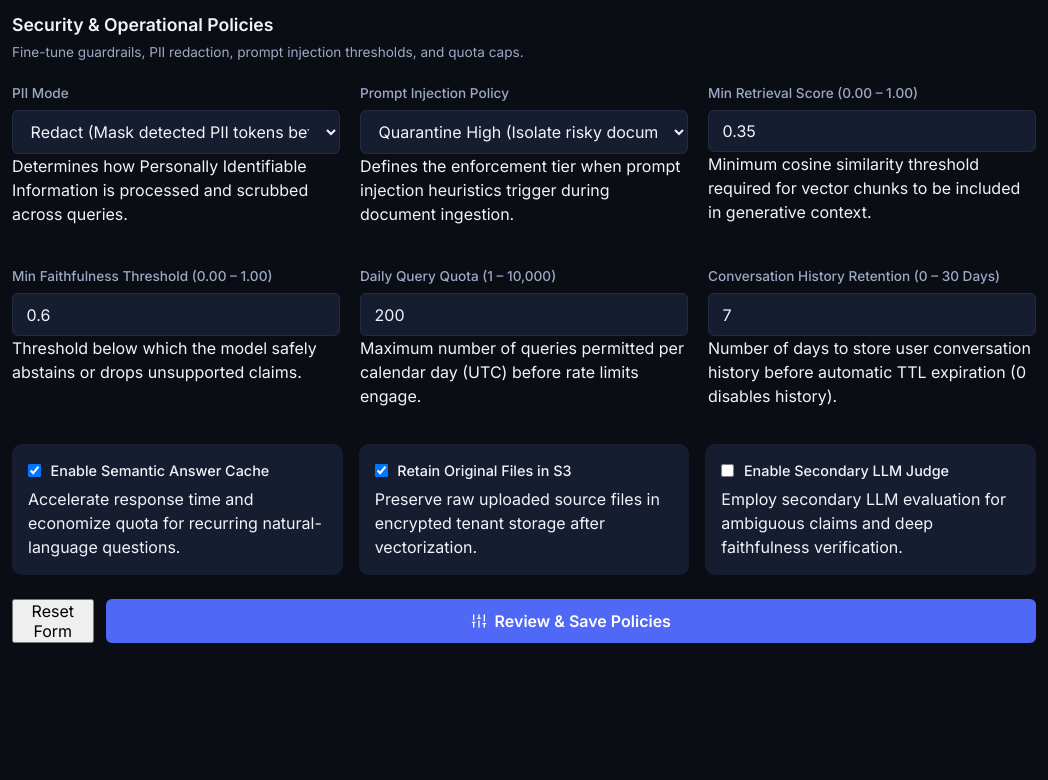
Test: PoliciesTab Component › validates out-of-range inputs before showing confirmation modal
Replace the text in the number field with test id "input-min-retrieval-score" with "1.5" at (872, 131), box [708,110,1036,152]
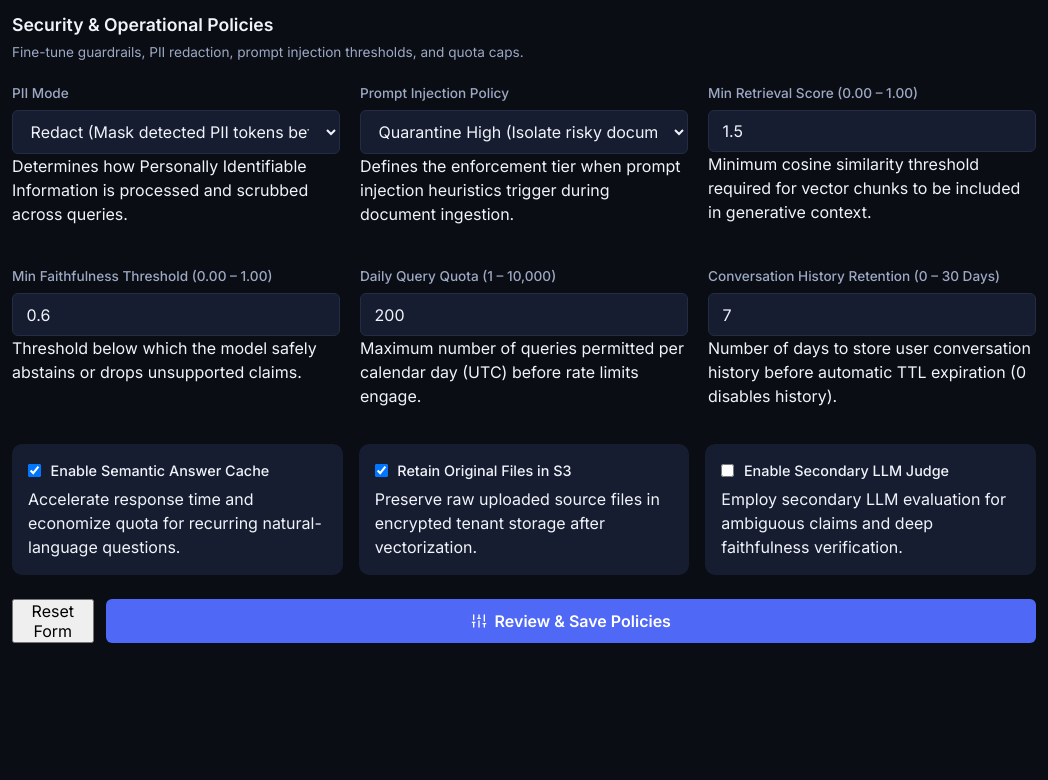
Replace the text in the number field with test id "input-daily-quota" with "-5" at (524, 314), box [360,293,688,336]
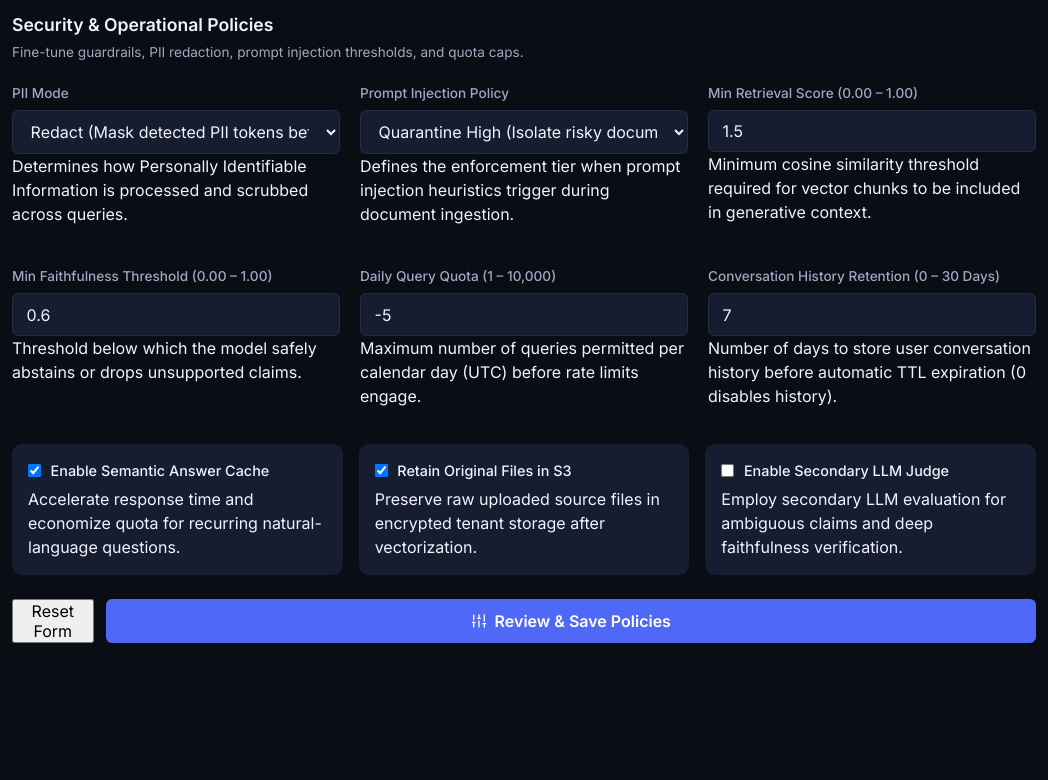
Click the button with test id "btn-save-policies".
click(571, 621)  # box [106,599,1036,643]
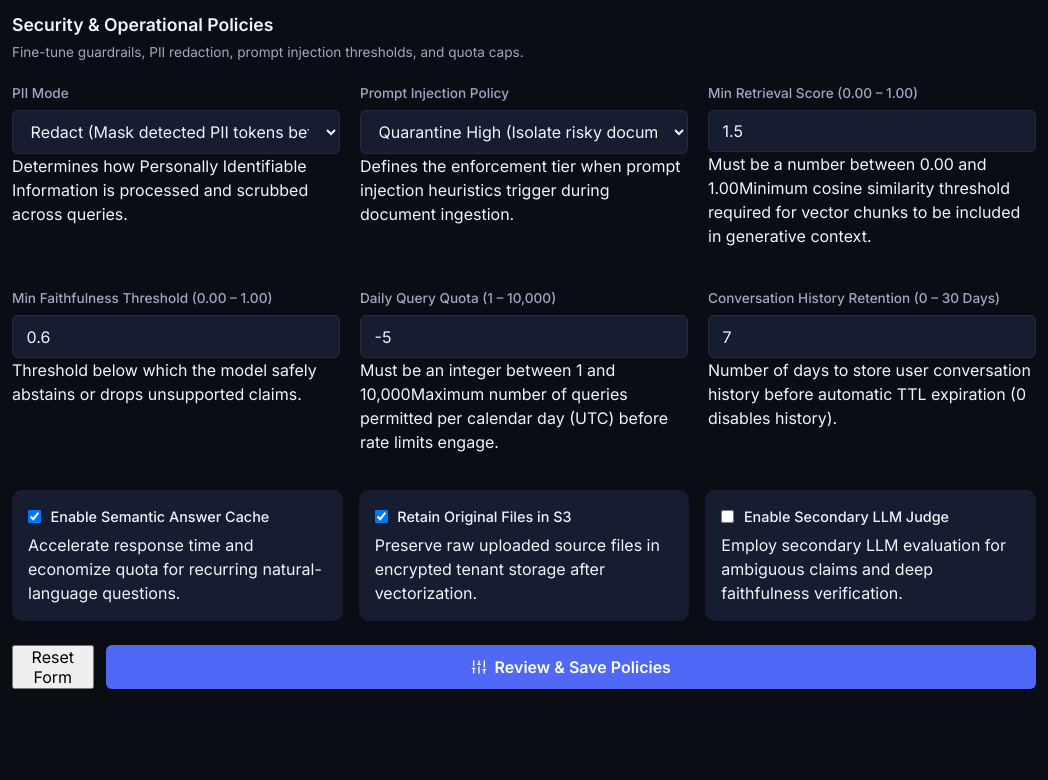
Result: the text with test id "error-min-retrieval-score" reads "Must be a number between 0.00 and 1.00" at [708,154,987,198]
Result: the text with test id "error-daily-quota" reads "Must be an integer between 1 and 10,000" at [360,360,615,404]
